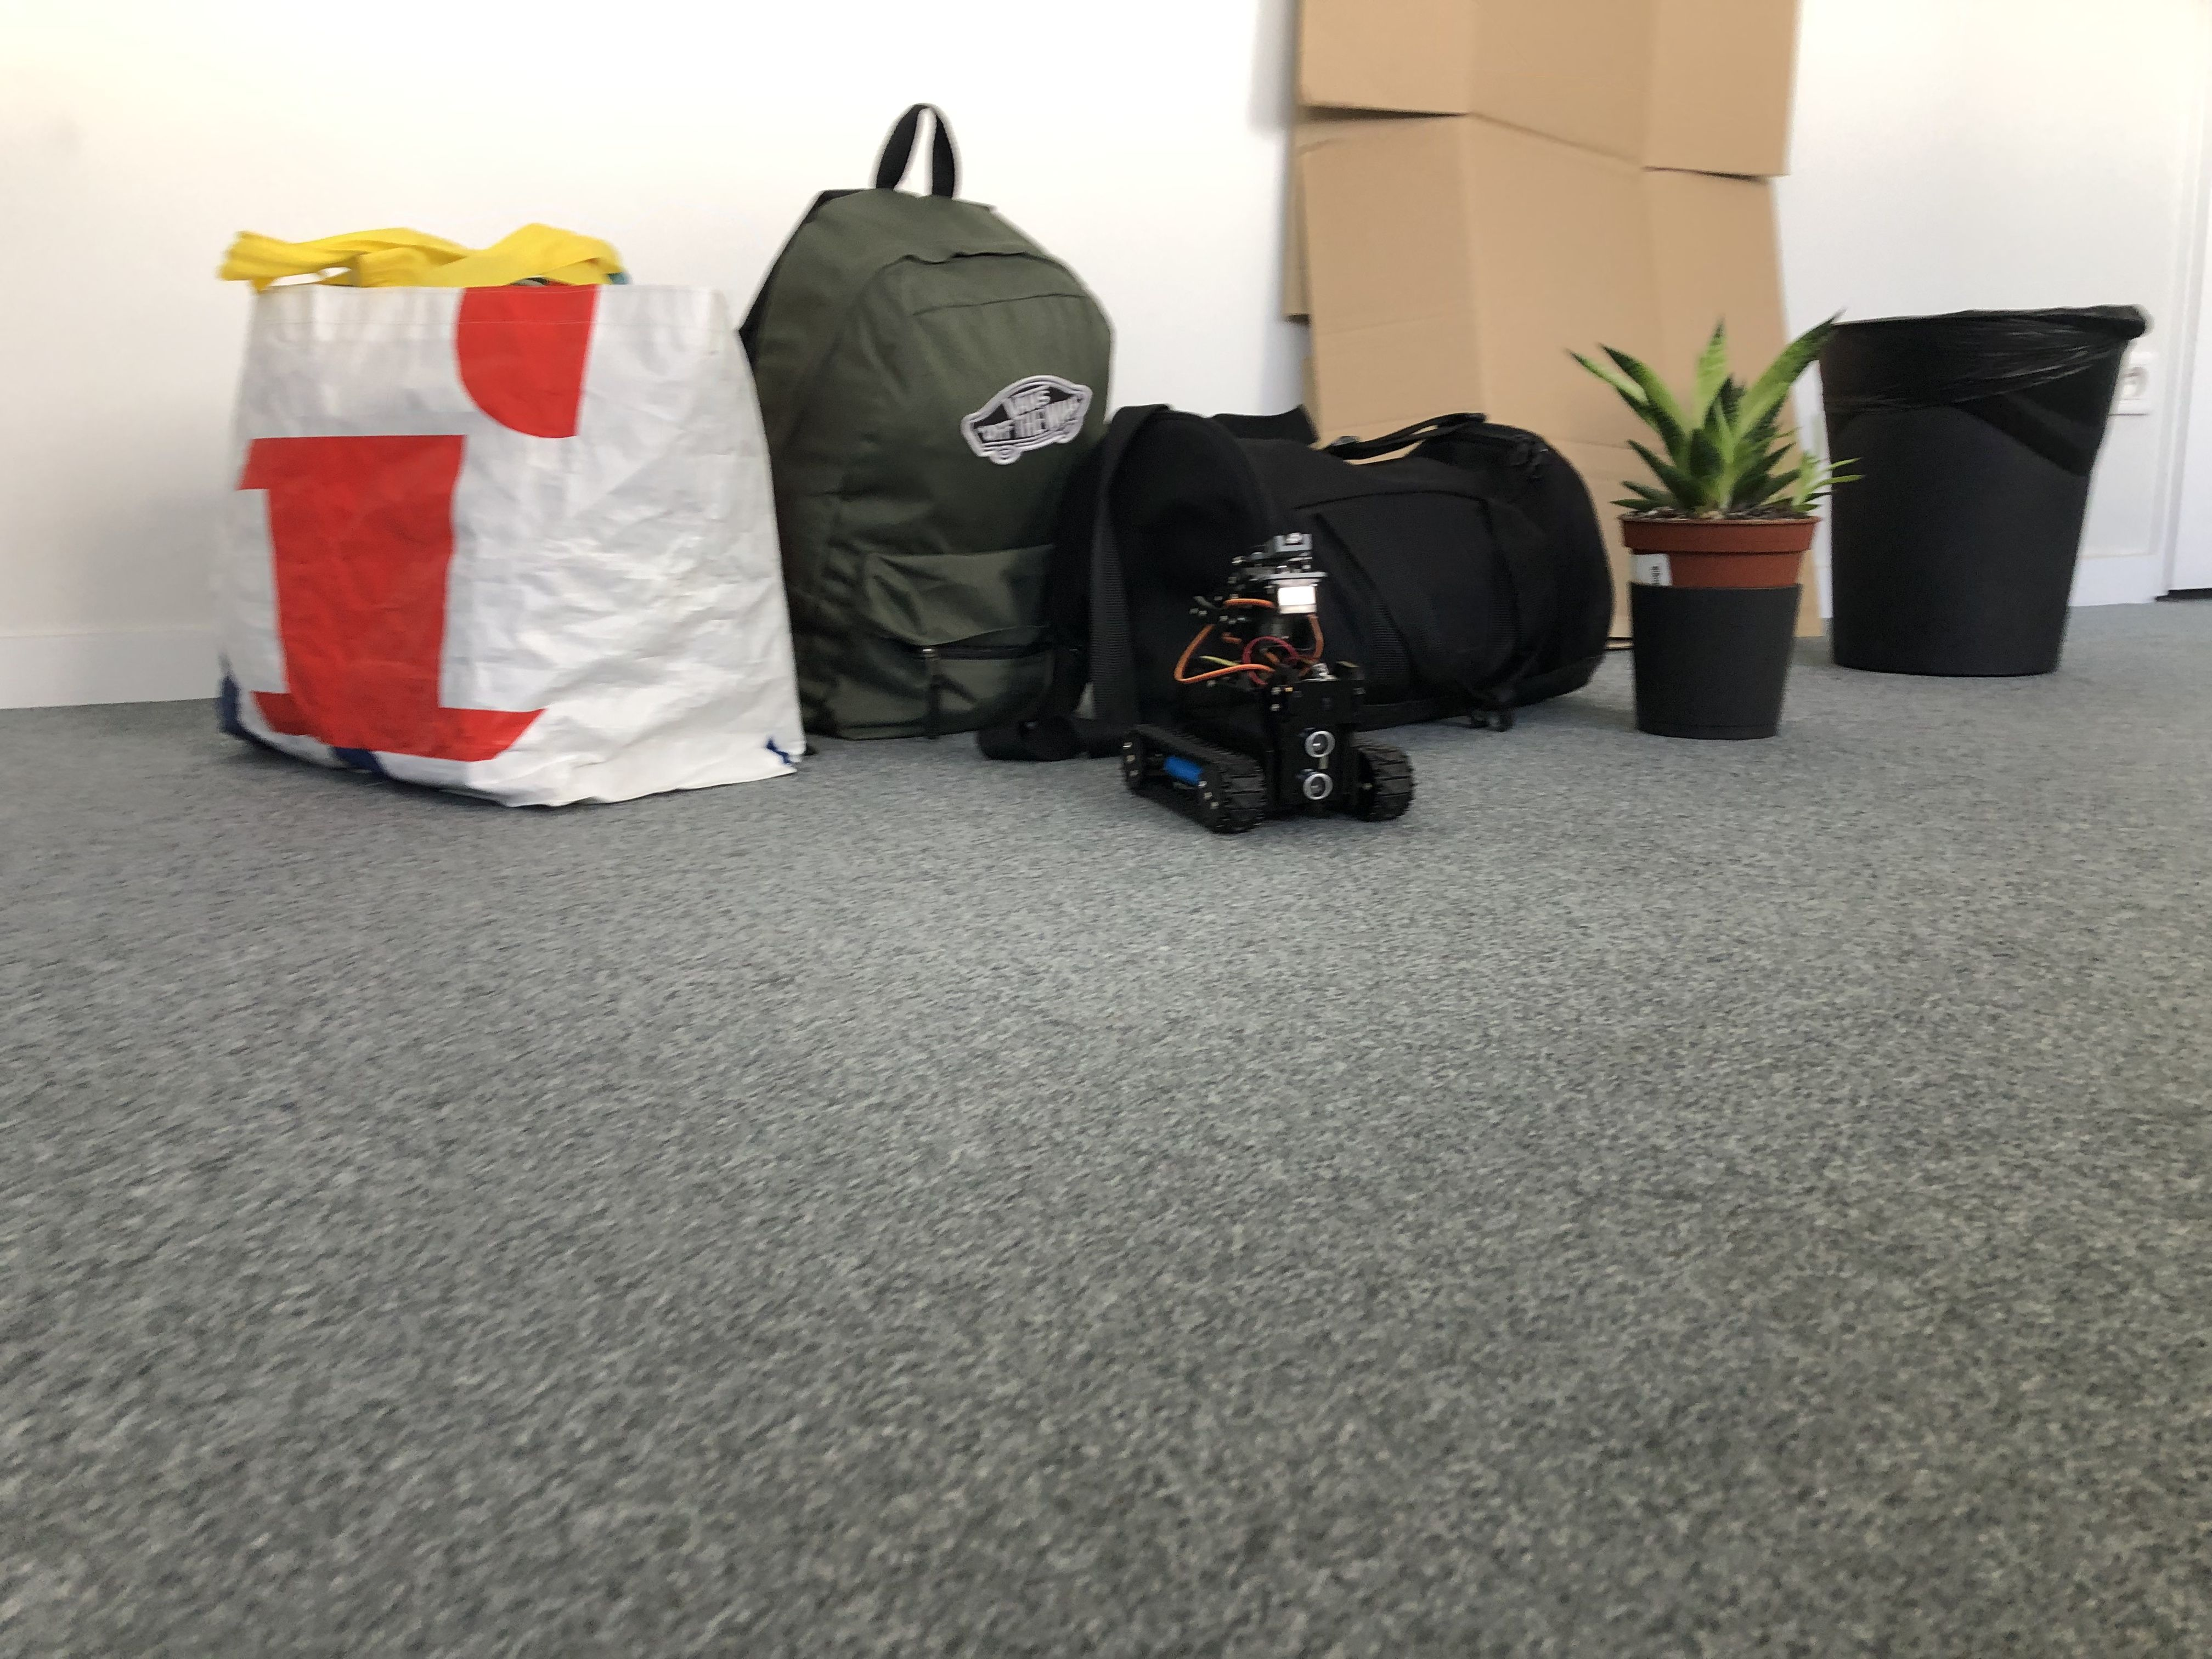rasptank: (1113, 519, 1423, 840)
